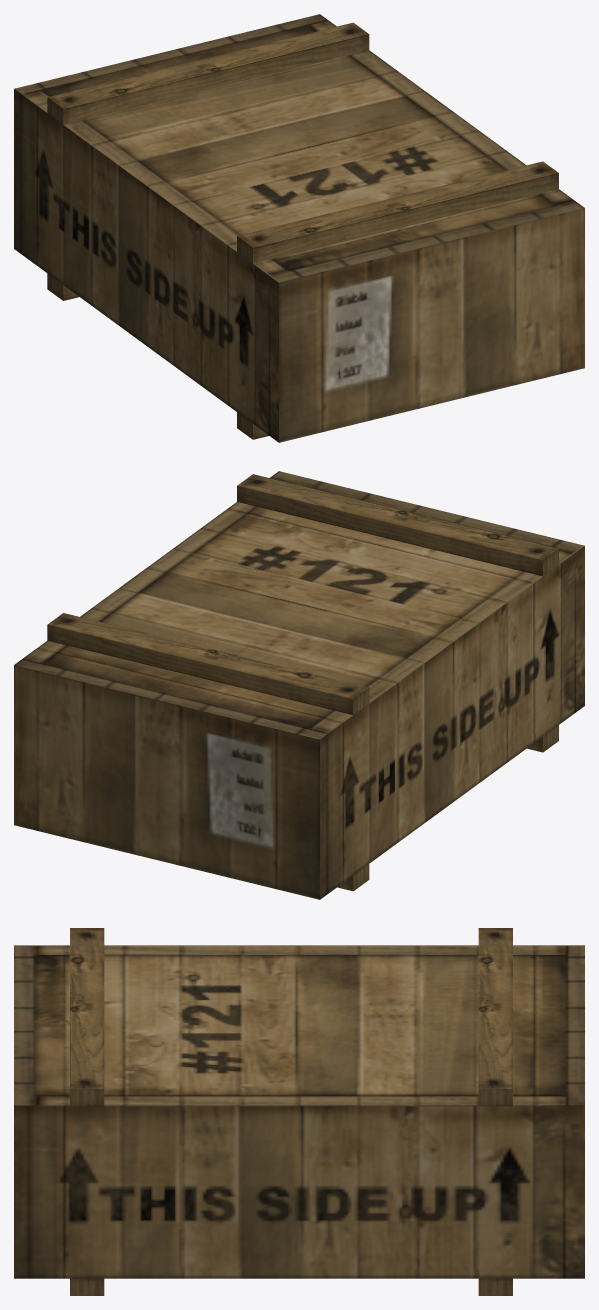
Rendered from crated1.gltf.
The picture shows the model from 3 angles, top to bottom: view 1: azimuth 30°, elevation 25°; view 2: azimuth 150°, elevation 25°; view 3: azimuth 270°, elevation 25°; orthographic projection. The views are drawn at different scales.
Visible parts, largest first — view 1: crated; view 2: crated; view 3: crated.
Boxes of the visible parts, box(x1,y1,x2,y2) form: crated: box(14, 14, 584, 442); crated: box(14, 471, 584, 899); crated: box(14, 928, 584, 1295).
Size of the model in its own units: 1 by 0.6 by 1.5.
Materials: 1 (1 with a texture image).
